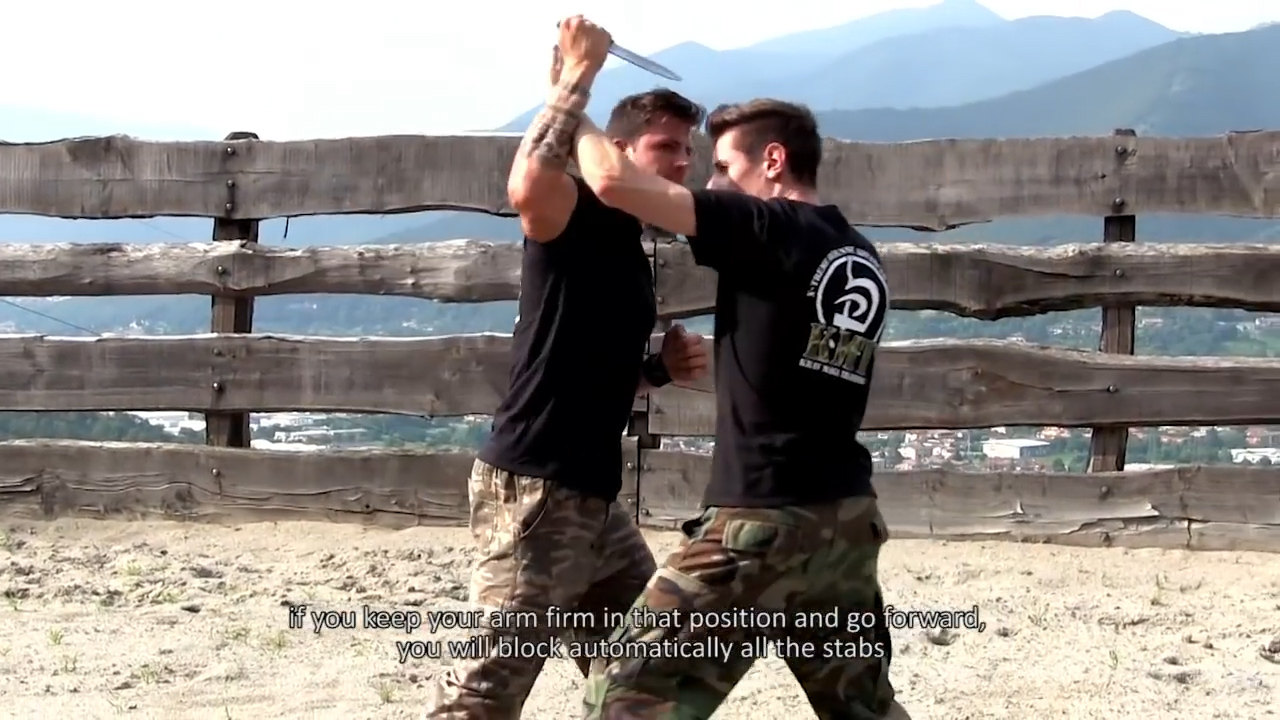knife: (554, 12, 689, 88)
